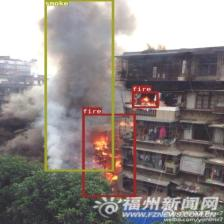fire: (82, 113, 135, 197), (132, 91, 158, 108)
smoke: (44, 0, 114, 171)
